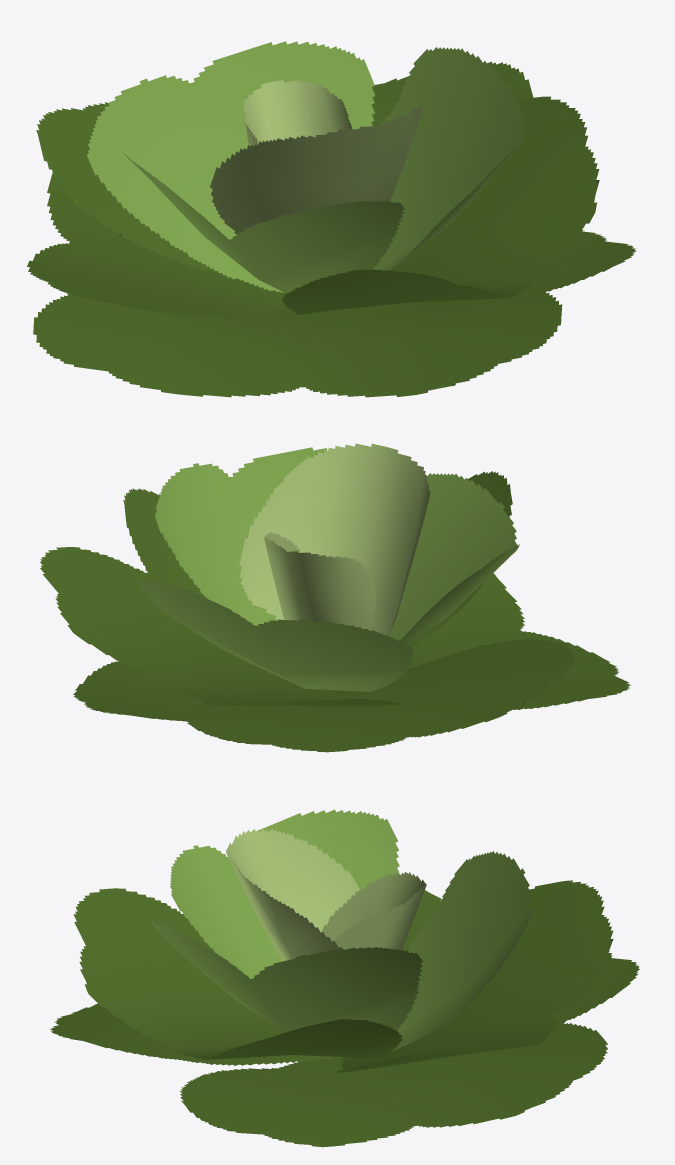
Rendered from Water_Lettuce_1.gltf.
3 renders of one model, top to bottom at view 1: azimuth 30°, elevation 25°; view 2: azimuth 150°, elevation 25°; view 3: azimuth 270°, elevation 25°, orthographic. The views are drawn at different scales.
Parts seen in each view (by area): view 1: Water_Lettuce_1; view 2: Water_Lettuce_1; view 3: Water_Lettuce_1.
Boxes of the visible parts, box(x1,y1,x2,y2) form: Water_Lettuce_1: box(27, 41, 635, 397); Water_Lettuce_1: box(40, 443, 630, 752); Water_Lettuce_1: box(50, 809, 639, 1147).
Bounding box in the file's own units: 31.02 × 11.44 × 31.85.
1 material, 1 textured.
